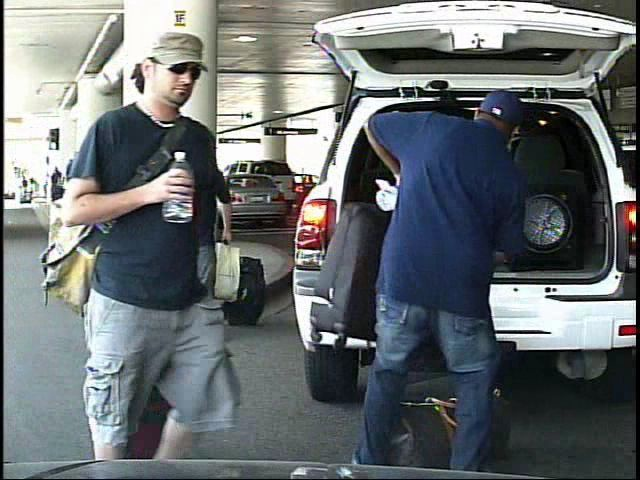person: (337, 84, 543, 472), (55, 40, 229, 469), (139, 123, 252, 343), (13, 173, 24, 204)
